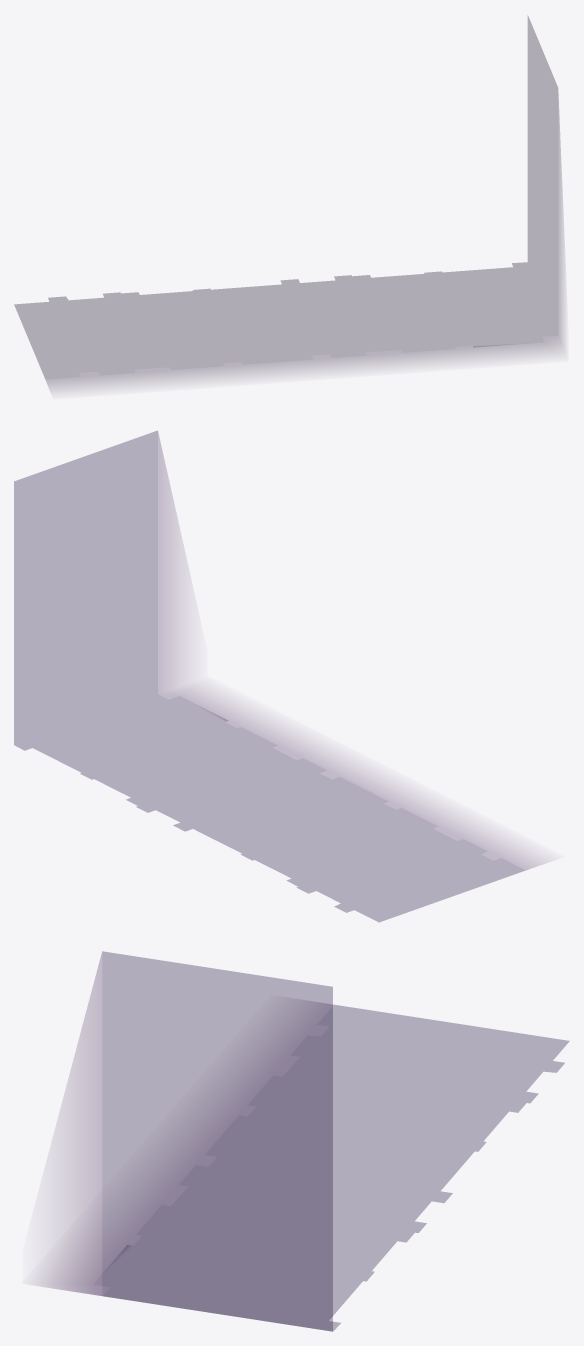
3 views of the same model, one above another, from view 1: azimuth 30°, elevation 25°; view 2: azimuth 150°, elevation 25°; view 3: azimuth 270°, elevation 25° (orthographic). The views are drawn at different scales.
Visible parts, largest first — view 1: Joint_0_Object_0; view 2: Joint_0_Object_0; view 3: Joint_0_Object_0.
Part boxes in pixels (x1,y1,x2,y2): Joint_0_Object_0: (14, 16, 563, 390); Joint_0_Object_0: (14, 431, 547, 921); Joint_0_Object_0: (35, 951, 569, 1331).
Size of the model in its own units: 733 by 349 by 510.
Materials: 1 (1 with a texture image).
